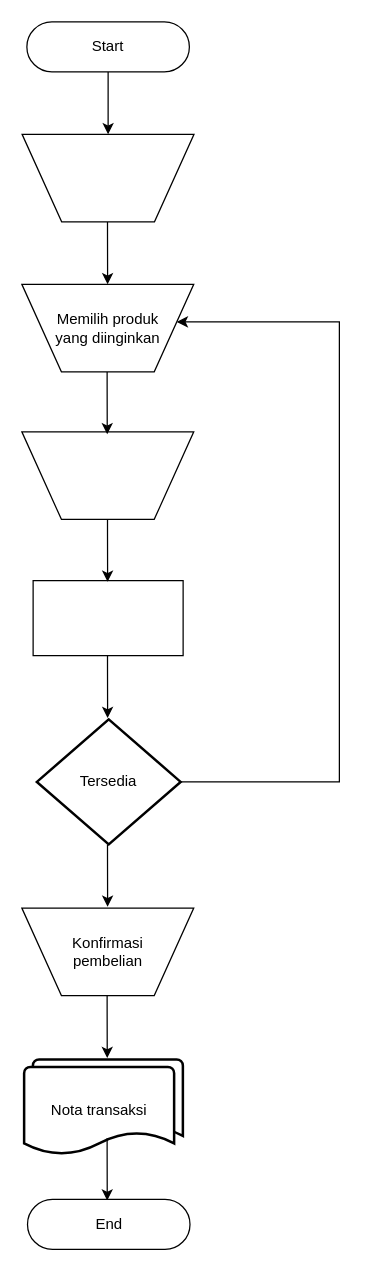
The diagram is 371 pixels wide and 1271 high, and some of its shapes have lost their labels. The shapes that lost their labels are listed below. From the top down, each one's centre as x and y in pixels, then its label:
At [107,177]: "Mendatangi atau menghubungi perusahaan".
At [107,475]: "Menanyakan Ketersediaan produk".
At [107,617]: "Mengecek Ketersediaan produk".
